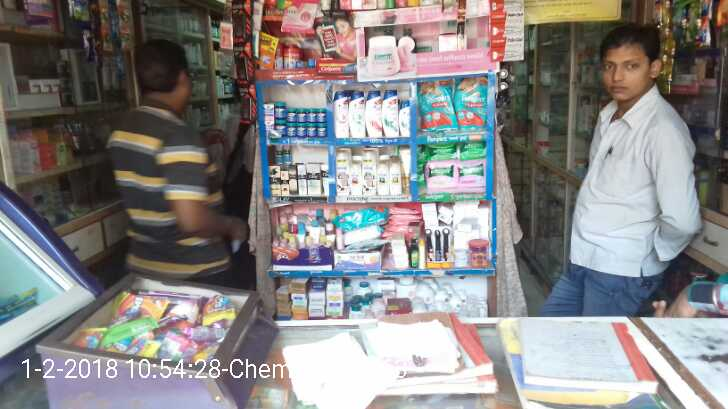vicks: (263, 92, 332, 140)
